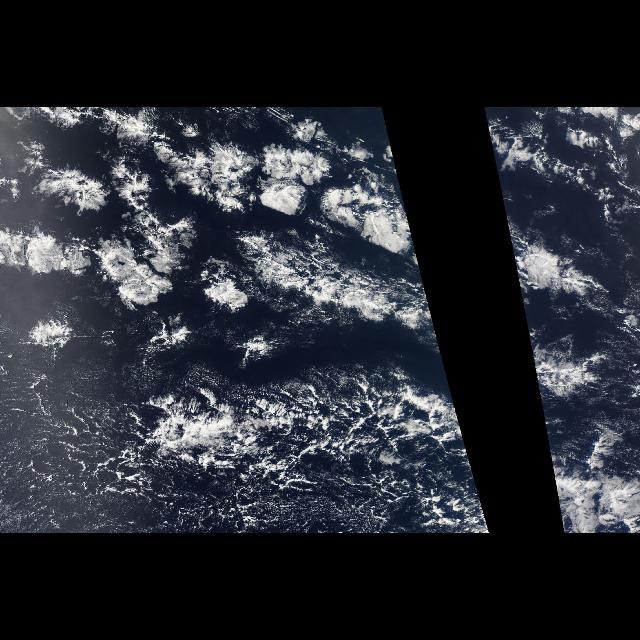Fish: (139, 206, 473, 464), (504, 205, 626, 440)
Flower: (0, 118, 450, 420)
Gravel: (0, 386, 468, 534)
